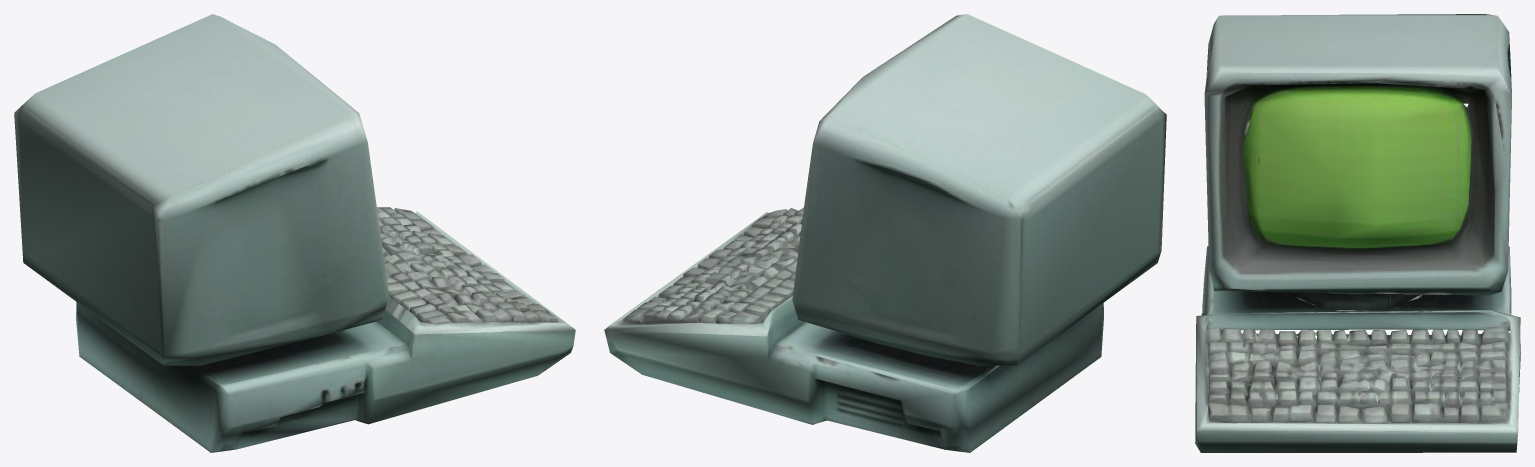
File: terminal.glb
The picture shows the model from 3 angles, left to right: view 1: azimuth 30°, elevation 25°; view 2: azimuth 150°, elevation 25°; view 3: azimuth 270°, elevation 25°; orthographic projection.
Visible parts, largest first — view 1: terminal; view 2: terminal; view 3: terminal.
Part boxes in pixels (left/top/right/bottom): terminal: left=14, top=14, right=575, bottom=452; terminal: left=604, top=14, right=1166, bottom=452; terminal: left=1195, top=14, right=1520, bottom=452.
Bounding box in the file's own units: 0.9945 × 0.7061 × 0.6733.
1 material, 1 textured.
